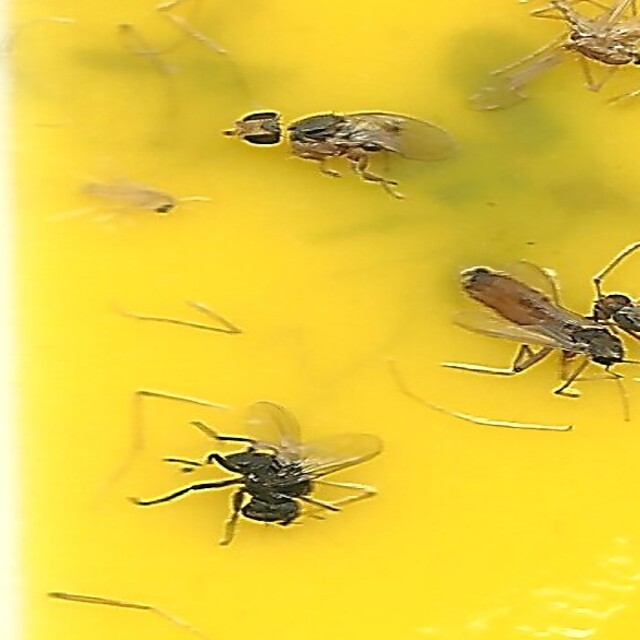Brachycera: (183, 403, 397, 531), (221, 109, 457, 203)
